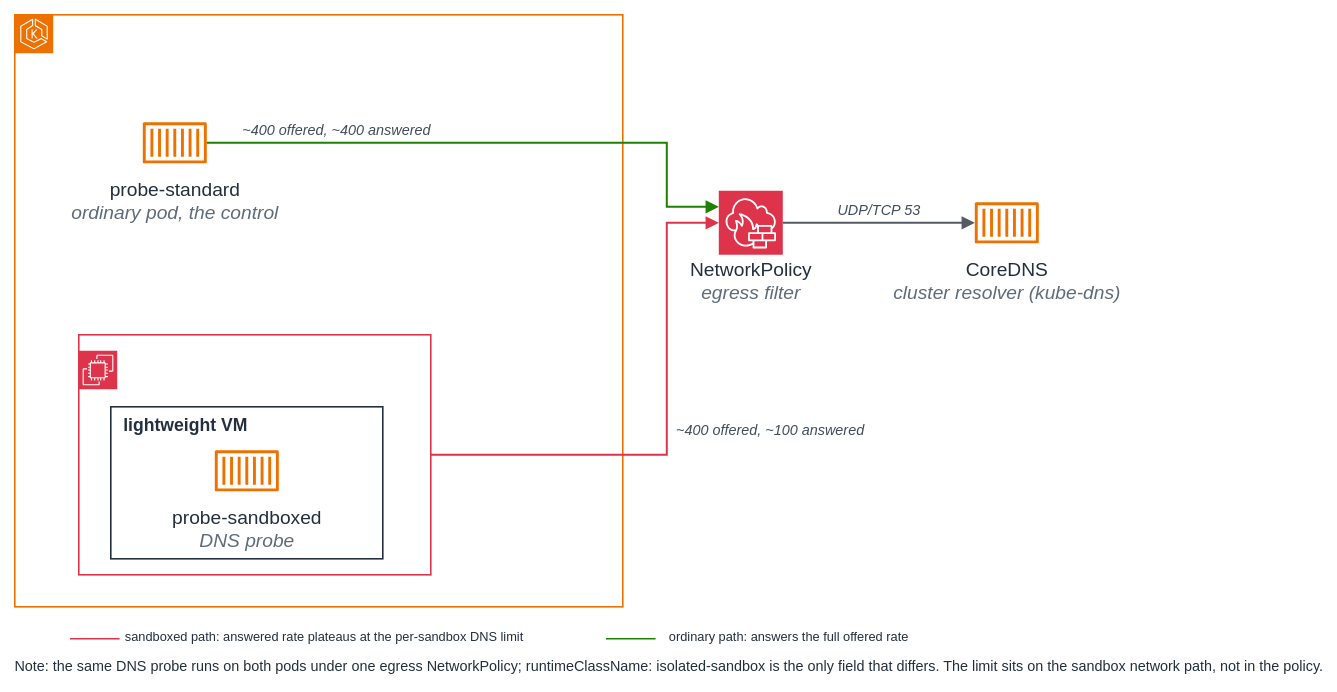
Image size: 1337x692. Some labels were removed from this diagram. The shapes that lost their labels are listed below. From the top down, each one's box as (x1, y1, x2, y2) in pixels, then its label:
(14, 14, 623, 607): EKS Auto Mode node
(78, 334, 431, 575): Nitro sandbox pod runtimeClassName: isolated-sandbox
